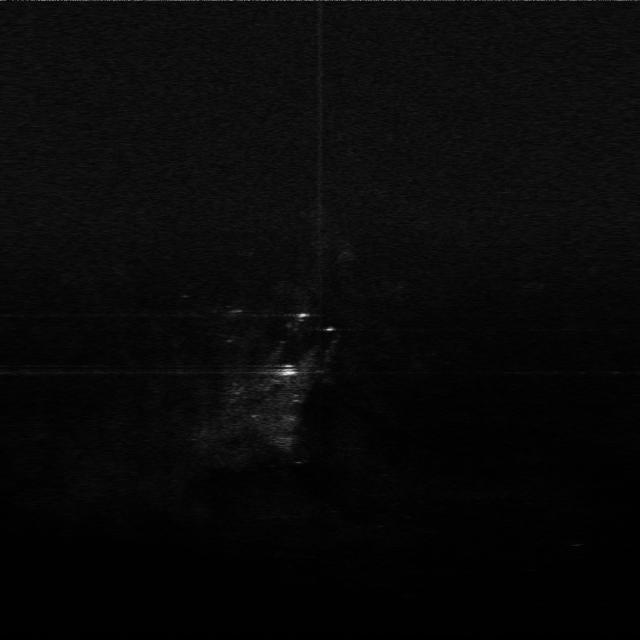rov: (274, 360, 298, 378)
